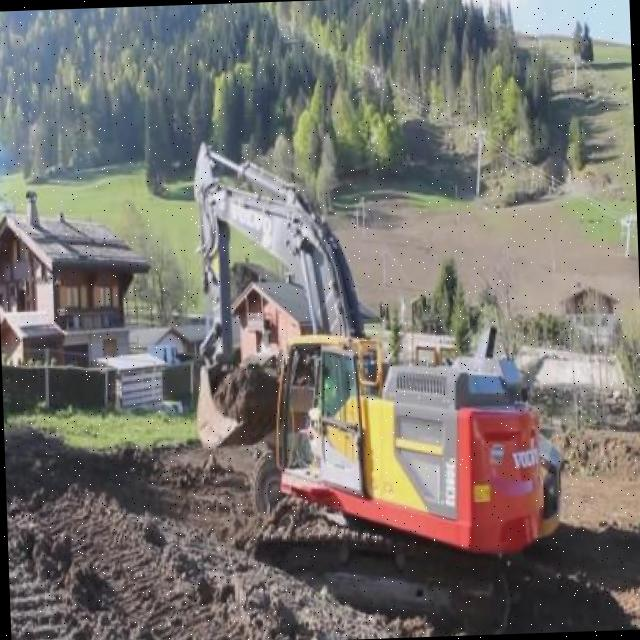Excavator: (185, 126, 549, 640)
